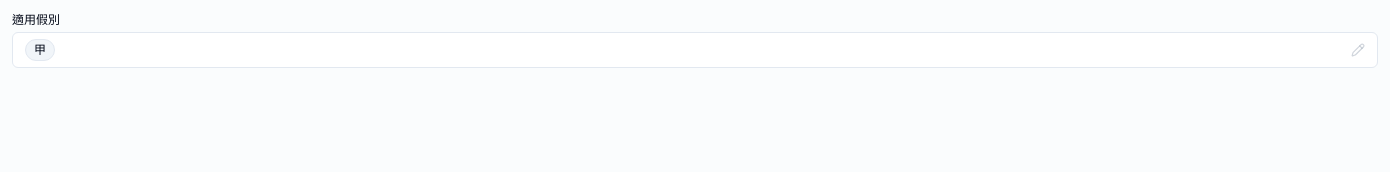
Test case: EditableField multiselect（多選）無障礙 › 點開後為 group，選項為 checkbox 並反映 aria-checked
This screenshot has width=1390, height=172.
Click the button "甲".
click(40, 50)  # box top-left (12, 32), bottom-right (1378, 68)
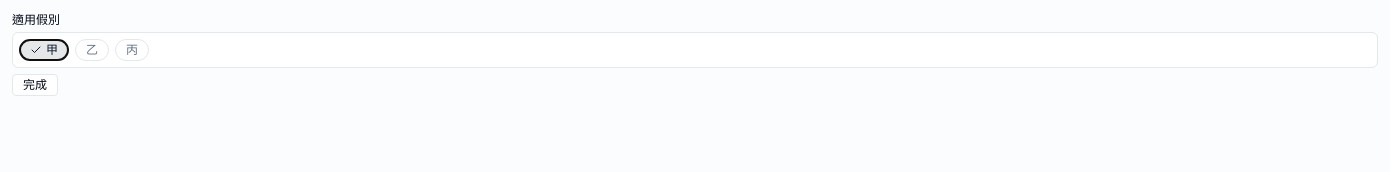
Check: the number of checkboxes is 3, box top-left (19, 39), bottom-right (69, 61); top-left (75, 39), bottom-right (109, 61); top-left (115, 39), bottom-right (149, 61)
